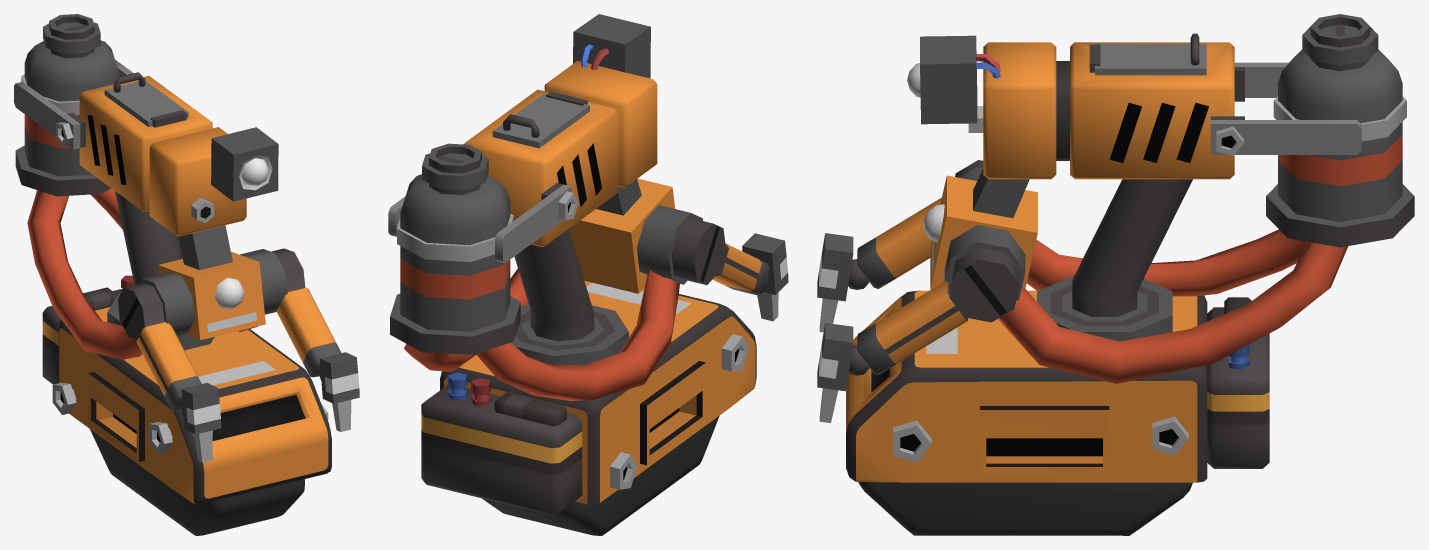
File: EngineeringBorg.fbx
3 views of the same model, side by side, from view 1: azimuth 30°, elevation 25°; view 2: azimuth 150°, elevation 25°; view 3: azimuth 270°, elevation 25° (orthographic). The views are drawn at different scales.
Visible parts, largest first — view 1: Chest, Body, Canister, FuelLines, Threads, RightArm, LeftArm, Head, SidePanel.001, TopPanel, LeftHand, RightHand (+6 smaller); view 2: Chest, Canister, Battery, Body, FuelLines, Threads, RightArm, Head, SidePanel.001, TopPanel, CanisterHolder, RightHand (+3 smaller); view 3: Chest, Body, Canister, FuelLines, Threads, LeftArm, Battery, CanisterHolder, SidePanel, Head, RightArm, TopPanel (+5 smaller).
Boxes of the visible parts, box(x1,y1,x2,y2) form: Chest: box(79, 75, 287, 350); Body: box(58, 306, 331, 504); Canister: box(15, 14, 119, 196); FuelLines: box(27, 188, 257, 359); Threads: box(90, 429, 304, 535); RightArm: box(117, 283, 201, 414); LeftArm: box(271, 248, 341, 380); Head: box(211, 127, 278, 201); SidePanel.001: box(88, 372, 144, 461); TopPanel: box(104, 72, 188, 127); LeftHand: box(319, 352, 359, 431); RightHand: box(181, 383, 221, 462); Chest: box(464, 61, 702, 365); Canister: box(390, 143, 520, 354); Battery: box(421, 372, 582, 515); Body: box(440, 280, 756, 504); FuelLines: box(404, 268, 679, 400); Threads: box(482, 416, 719, 535); RightArm: box(671, 218, 769, 295); Head: box(573, 14, 650, 78); SidePanel.001: box(640, 361, 705, 465); TopPanel: box(492, 91, 589, 148); CanisterHolder: box(388, 183, 571, 263); RightHand: box(742, 233, 788, 321); Chest: box(930, 42, 1234, 341); Body: box(846, 290, 1207, 482); Canister: box(1266, 14, 1414, 247); FuelLines: box(998, 229, 1348, 383); Threads: box(858, 482, 1192, 535); LeftArm: box(848, 247, 1019, 375); Battery: box(1207, 297, 1269, 468); CanisterHolder: box(1210, 62, 1361, 154); SidePanel: box(980, 406, 1109, 475); Head: box(920, 35, 1000, 124); RightArm: box(848, 160, 983, 289); TopPanel: box(1089, 33, 1206, 75).
Size of the model in its own units: 0.7811 by 1.71 by 1.91.
